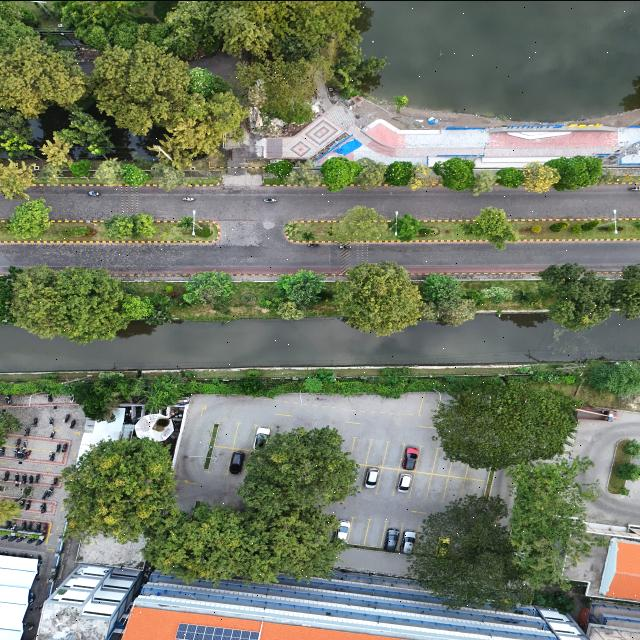Tree: (460, 206, 516, 249), (8, 195, 54, 238), (182, 270, 234, 308), (335, 205, 387, 241), (140, 374, 184, 411), (321, 156, 363, 192), (434, 156, 476, 190), (422, 272, 462, 304), (280, 270, 322, 300), (41, 135, 71, 166), (0, 491, 28, 524), (96, 156, 124, 186), (102, 214, 134, 238), (262, 157, 294, 179), (132, 211, 158, 238), (384, 160, 412, 185), (120, 162, 148, 186), (494, 166, 524, 188), (276, 300, 308, 320), (396, 214, 416, 240), (68, 159, 94, 177), (614, 462, 640, 480), (58, 225, 92, 237), (622, 438, 640, 458), (302, 376, 322, 392), (548, 219, 569, 233), (580, 218, 600, 232), (283, 220, 301, 234), (300, 230, 314, 242), (617, 484, 631, 496), (570, 222, 583, 232), (417, 227, 433, 235), (529, 224, 543, 232)
